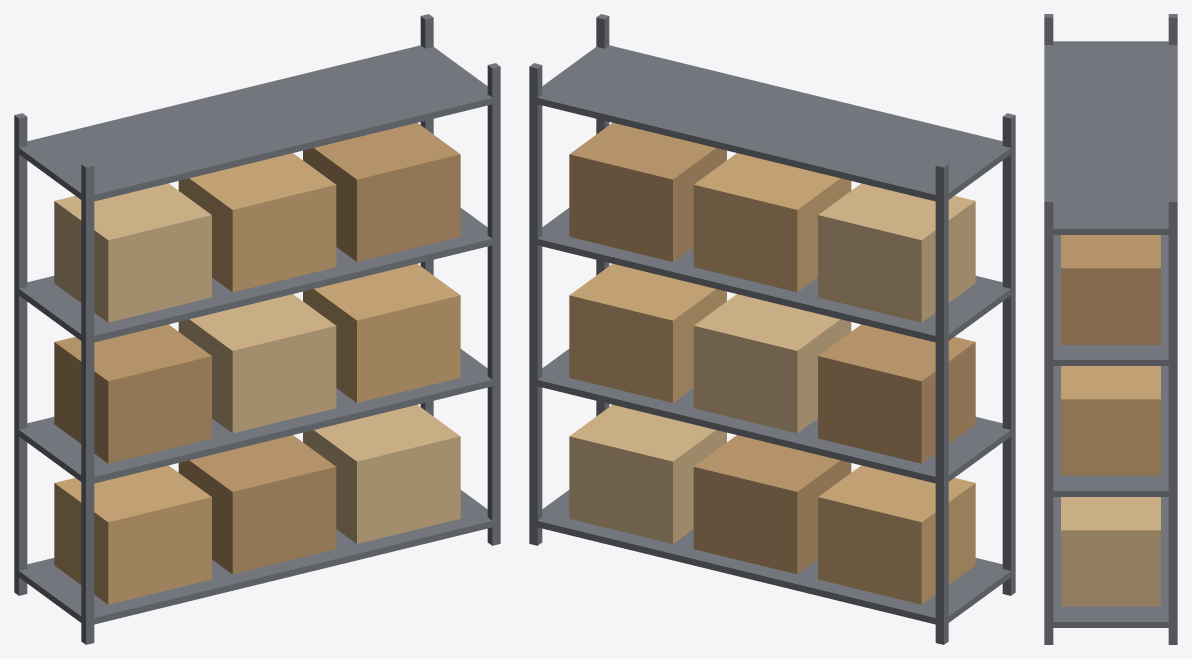
The model's file is stock_shelf.glb.
The picture shows the model from 3 angles, left to right: view 1: azimuth 30°, elevation 25°; view 2: azimuth 150°, elevation 25°; view 3: azimuth 270°, elevation 25°; orthographic projection. The views are drawn at different scales.
Parts seen in each view (by area): view 1: box, board_shelf_metal, post_shelf_metal; view 2: box, board_shelf_metal, post_shelf_metal; view 3: board_shelf_metal, box, post_shelf_metal.
Part boxes in pixels (x1=…): box: x1=54, y1=122, x2=460, y2=604; board_shelf_metal: x1=14, y1=45, x2=500, y2=624; post_shelf_metal: x1=14, y1=14, x2=500, y2=644; box: x1=569, y1=122, x2=975, y2=604; board_shelf_metal: x1=529, y1=45, x2=1015, y2=624; post_shelf_metal: x1=529, y1=14, x2=1015, y2=644; board_shelf_metal: x1=1044, y1=41, x2=1177, y2=627; box: x1=1061, y1=235, x2=1160, y2=606; post_shelf_metal: x1=1044, y1=14, x2=1177, y2=644.
Size of the model in its own units: 2 by 2.2 by 0.6.
